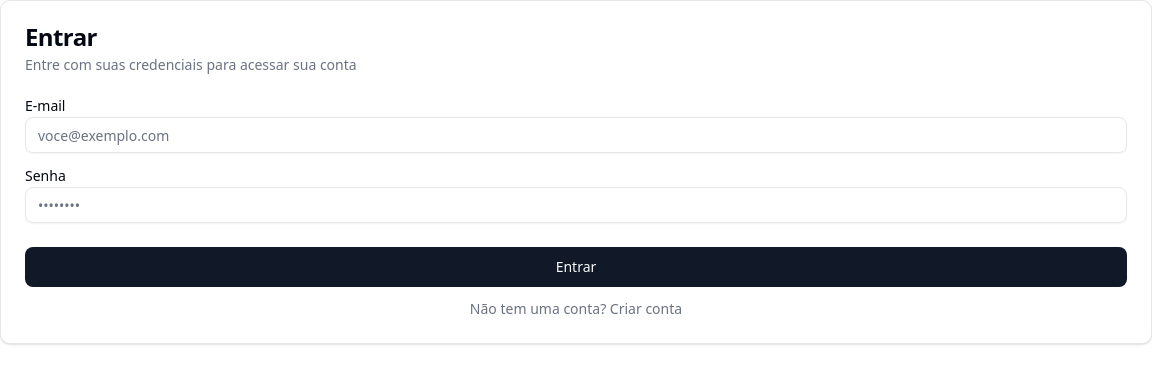
LoginForm › shows password validation error for short password
Type "test@example.com" into the field labelled "E-mail".
click(576, 135); type("test@example.com")  # box [25, 117, 1127, 153]
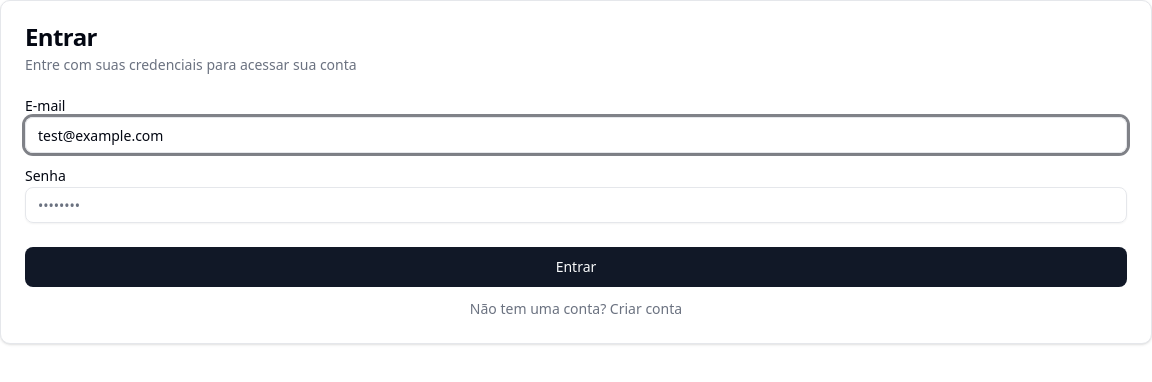
Type "123" into the password field labelled "Senha".
click(576, 205); type("123")  # box [25, 187, 1127, 223]
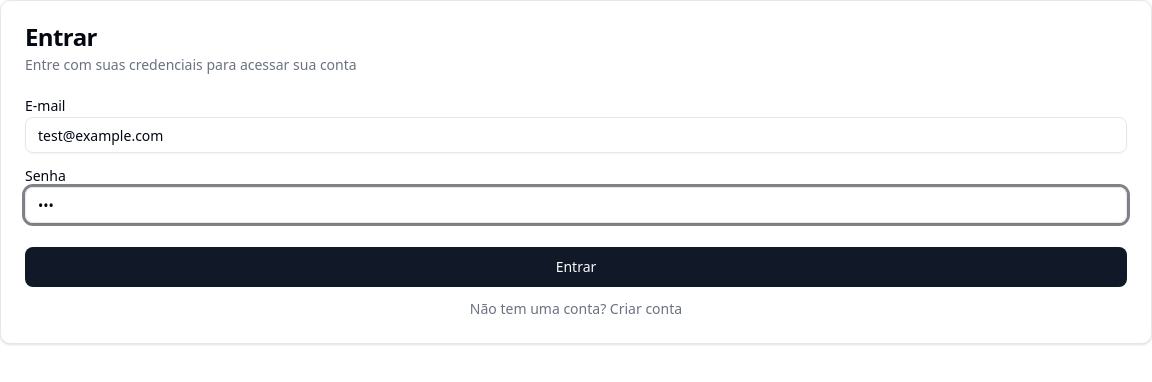
Click the button "Entrar".
click(576, 267)  # box [25, 247, 1127, 287]
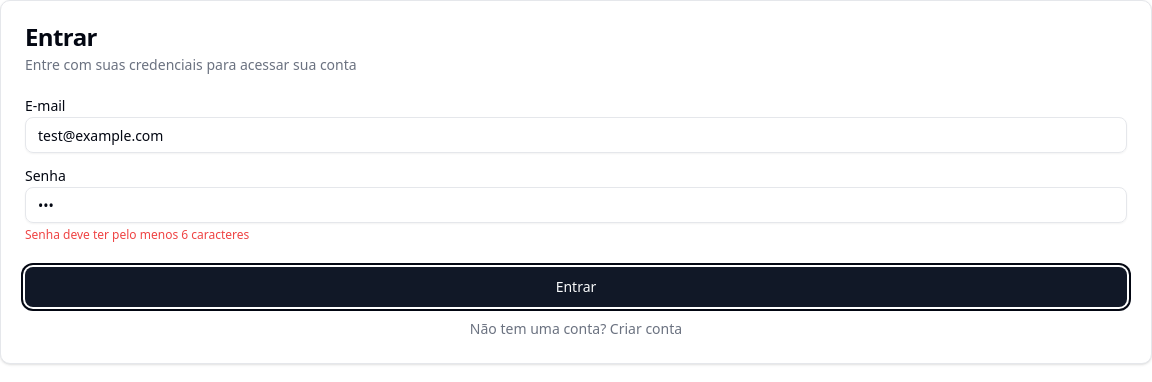
Expected: the text "Senha deve ter pelo menos 6 caracteres" is shown, [25, 226, 249, 243]
